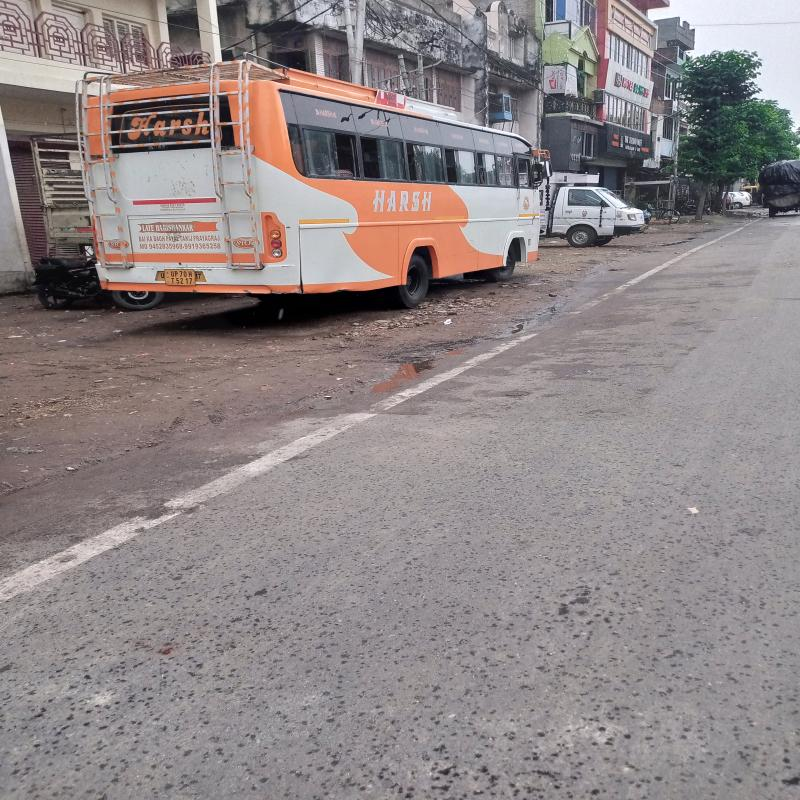bus: (82, 74, 546, 282)
